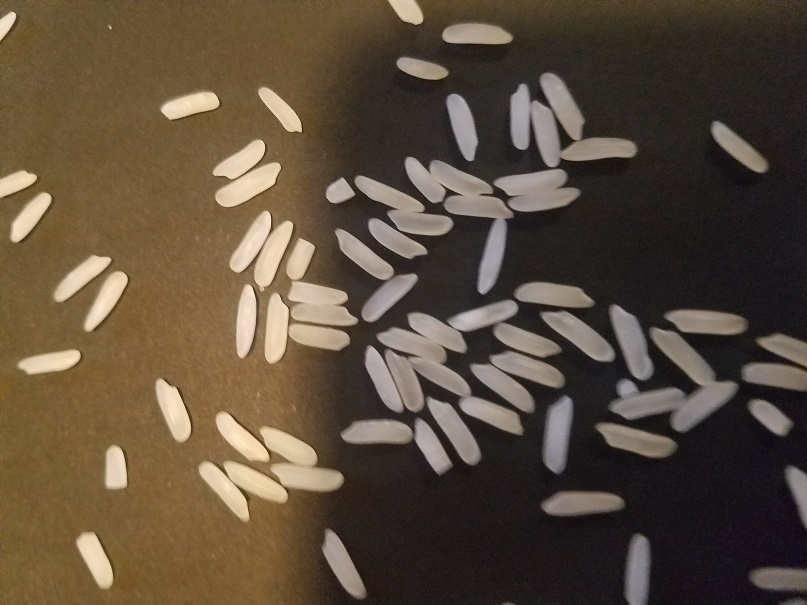egg: (647, 324, 717, 387), (540, 306, 616, 363), (425, 394, 482, 465), (668, 380, 738, 435), (607, 301, 654, 381), (468, 363, 539, 415), (318, 528, 368, 600), (708, 119, 771, 175), (197, 460, 251, 525), (332, 226, 395, 280), (490, 346, 567, 390), (214, 160, 283, 209), (538, 72, 586, 142), (593, 420, 678, 459), (361, 343, 404, 414), (222, 460, 290, 504), (458, 394, 525, 438), (52, 253, 112, 302), (227, 209, 272, 274), (253, 219, 295, 288), (83, 271, 129, 334), (214, 411, 271, 461), (353, 175, 426, 214), (362, 273, 420, 322), (540, 393, 574, 475), (383, 348, 425, 412), (374, 327, 448, 363), (607, 387, 685, 421), (153, 377, 193, 443), (365, 218, 429, 259), (407, 355, 471, 396), (474, 217, 507, 296), (74, 530, 116, 592), (258, 424, 318, 467), (411, 417, 454, 477), (406, 311, 467, 353), (443, 92, 479, 163), (493, 321, 564, 357), (211, 137, 267, 181), (447, 297, 519, 331), (528, 99, 562, 169), (664, 306, 749, 334), (429, 157, 492, 194), (255, 86, 303, 134), (270, 463, 345, 493), (513, 281, 596, 308), (559, 135, 639, 163), (7, 191, 50, 243), (539, 492, 625, 517), (623, 533, 653, 604), (337, 418, 414, 445), (403, 155, 446, 203), (746, 395, 794, 438), (493, 166, 569, 193), (508, 185, 582, 212), (159, 90, 221, 122), (286, 323, 352, 353), (262, 290, 288, 364), (741, 361, 807, 390), (16, 348, 82, 376), (755, 330, 807, 365), (444, 194, 515, 219), (386, 210, 454, 236), (441, 22, 514, 46), (749, 563, 807, 593), (509, 79, 532, 153), (290, 303, 360, 327), (780, 464, 807, 526), (236, 283, 258, 359), (285, 281, 348, 304), (396, 55, 450, 81), (286, 236, 315, 281), (104, 443, 129, 491), (1, 168, 40, 196), (387, 1, 425, 26), (324, 176, 356, 205), (1, 10, 18, 42), (614, 377, 638, 398)
